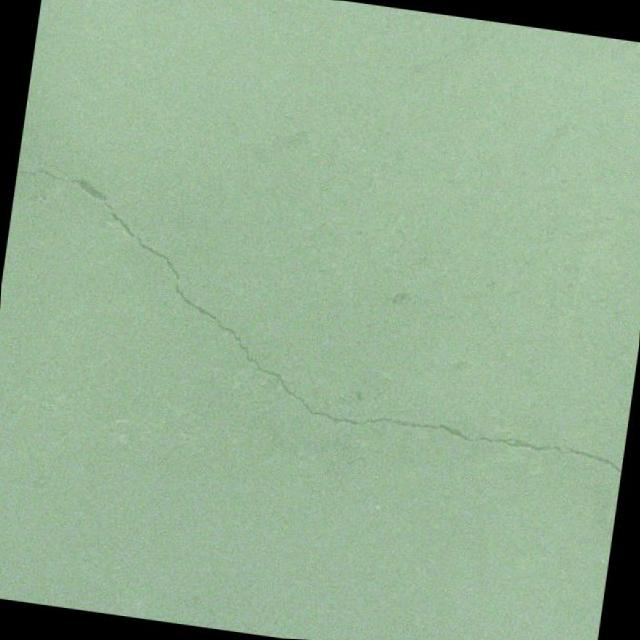crack: (0, 145, 640, 474)
